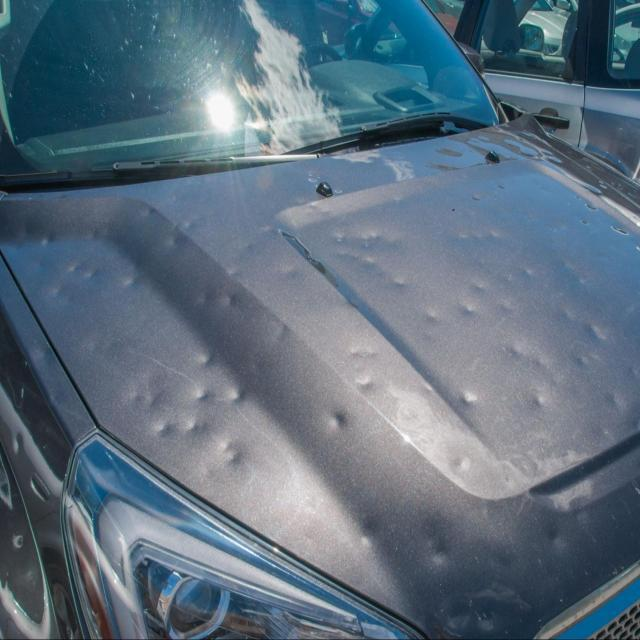dent: (424, 254, 622, 433), (112, 328, 278, 517), (315, 333, 386, 446)
